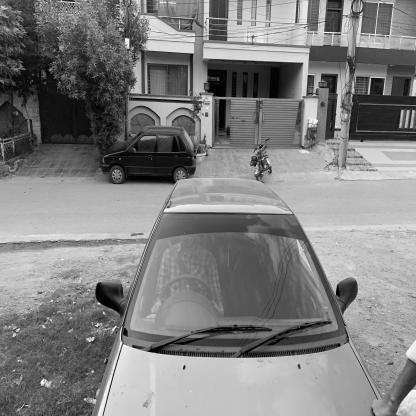seatbelt: (162, 231, 215, 299)
